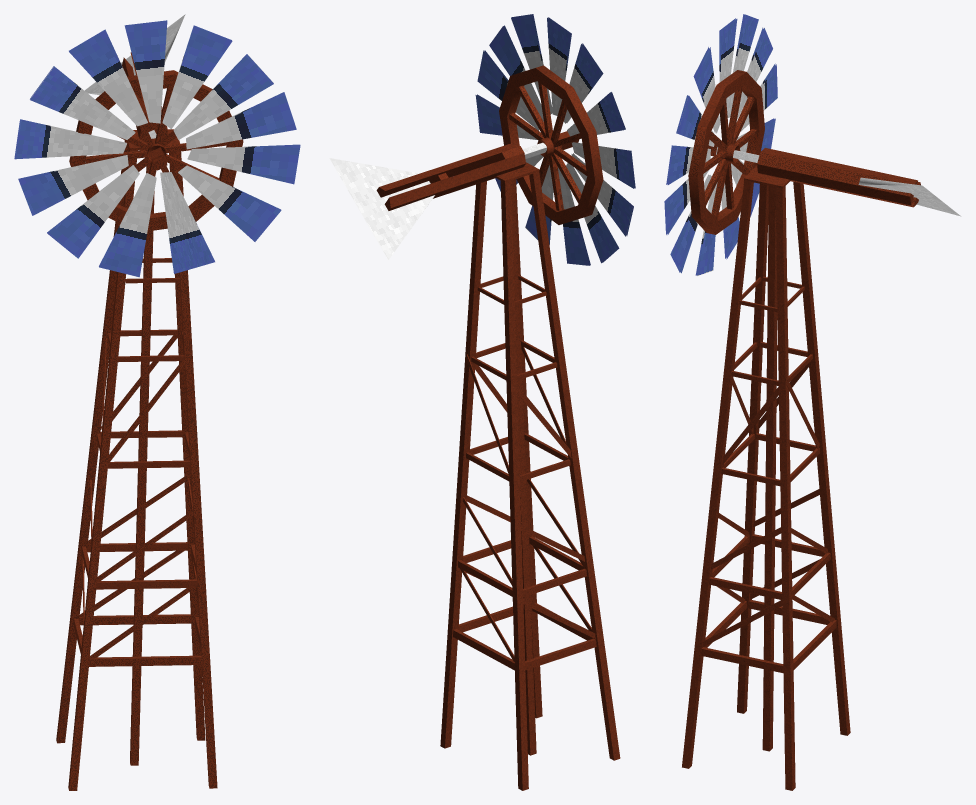
The model's file is windmill 2.fbx.
3 renders of one model, left to right at view 1: azimuth 30°, elevation 25°; view 2: azimuth 150°, elevation 25°; view 3: azimuth 270°, elevation 25°, orthographic. The views are drawn at different scales.
Parts seen in each view (by area): view 1: fan, body; view 2: body, fan; view 3: body, fan.
Boxes of the visible parts, x1,y1,x2,y2 form: fan: (14,14,300,277); body: (56,129,217,790); body: (440,162,620,790); fan: (329,14,635,265); body: (682,165,850,790); fan: (664,14,960,275).
Bounding box in the file's own units: 809 × 2380 × 884.
